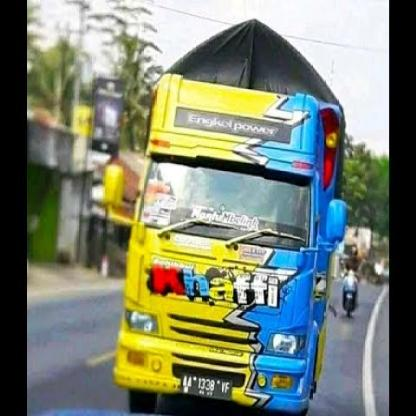truck: (104, 17, 347, 416)
